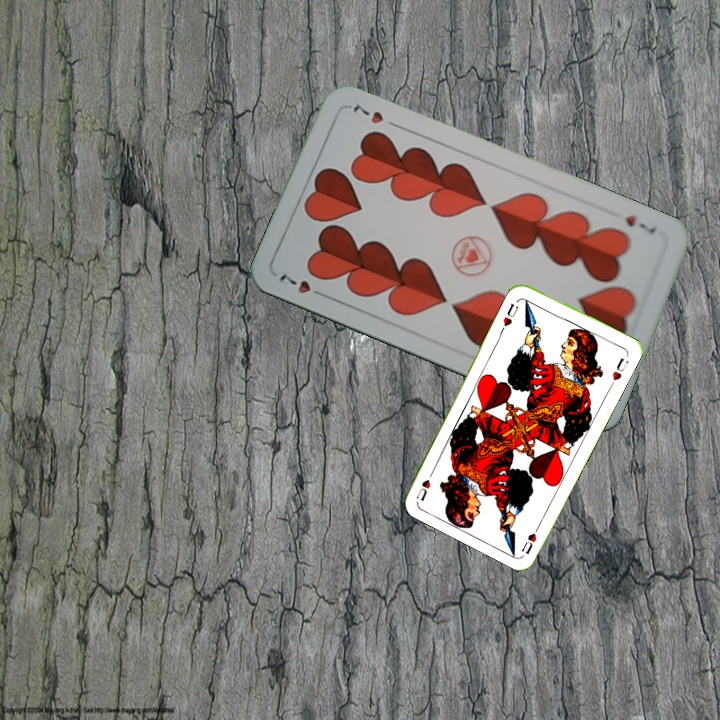H7: (275, 270, 329, 300), (621, 211, 660, 238)
HU: (517, 519, 544, 557), (498, 299, 521, 333)
